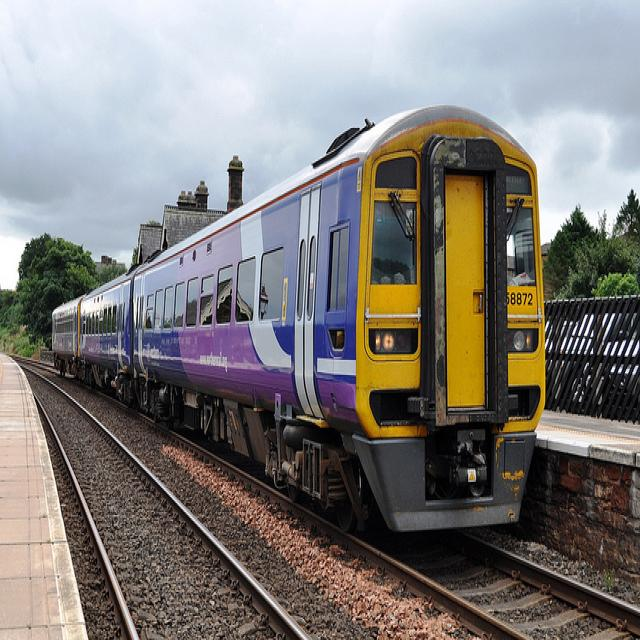Vehicle: (584, 334, 640, 404)
